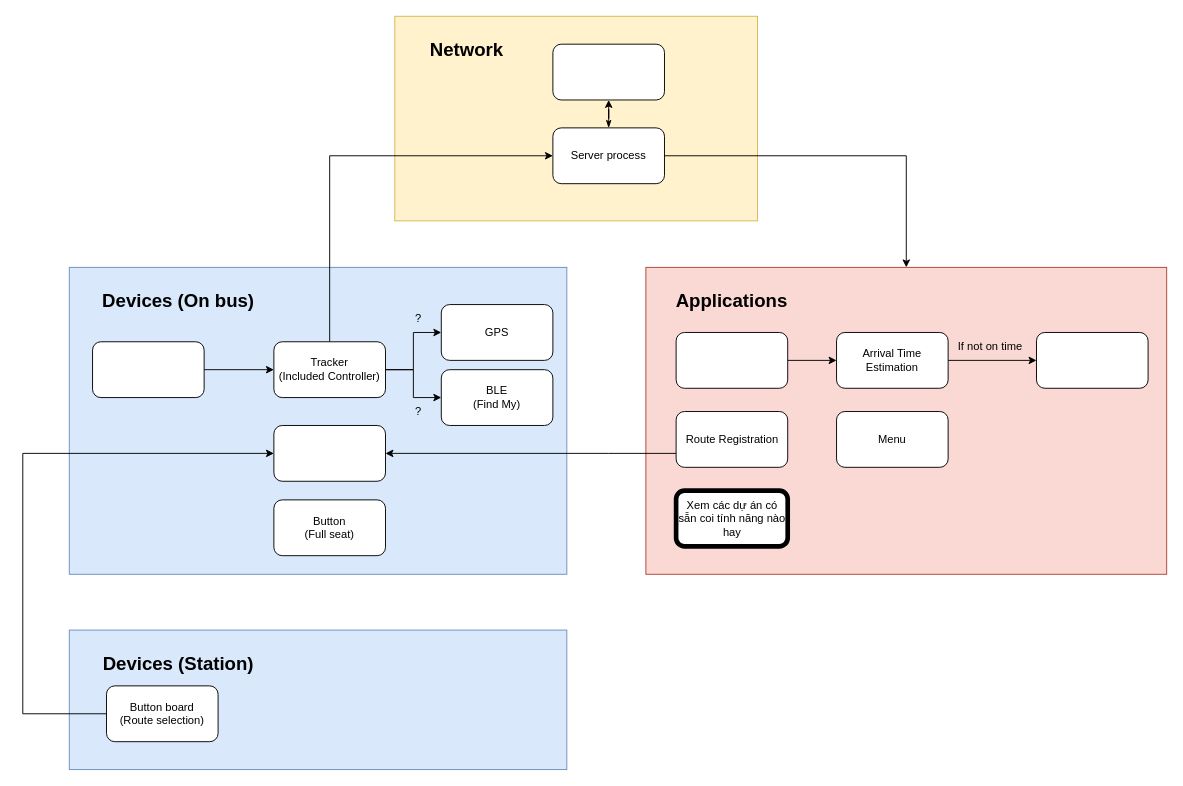
The diagram is 1183 pixels wide and 786 high, and some of its shapes have lost their labels. The shapes that lost their labels are listed below. From the top down, each one's box as (x1, y1, x2, y2) in pixels, then its label:
(552, 43, 664, 100): Database
(92, 341, 204, 398): Power Supply (Direct)
(675, 332, 788, 388): Bus Tracking
(1036, 332, 1148, 388): Other route recommendation
(273, 425, 385, 481): Notification Light (Stop or not)
